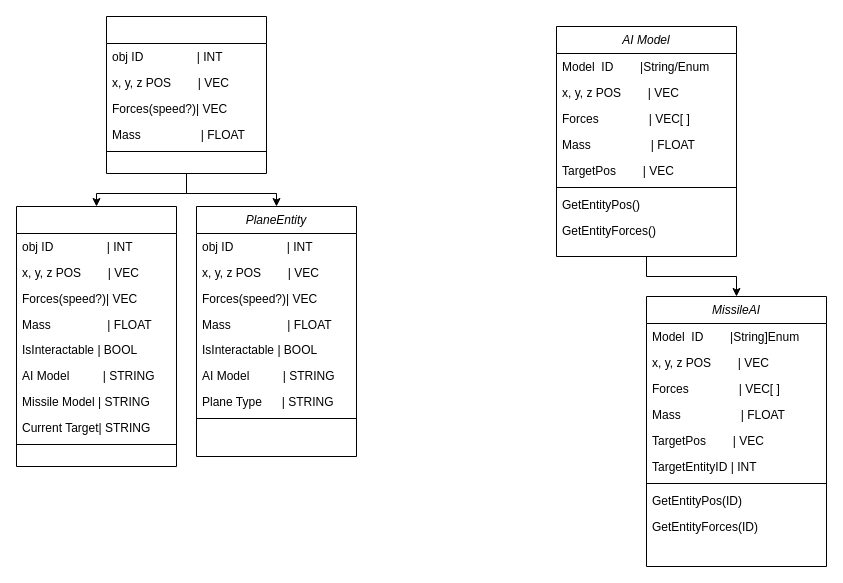
Some shapes in this 843 by 583 pixel diagram are drawn without their labels. The box of each missing label's shape, as (x1, y1, x2, y2) in pixels:
Entity: (106, 16, 266, 174)
MissileEntity: (16, 206, 176, 466)
